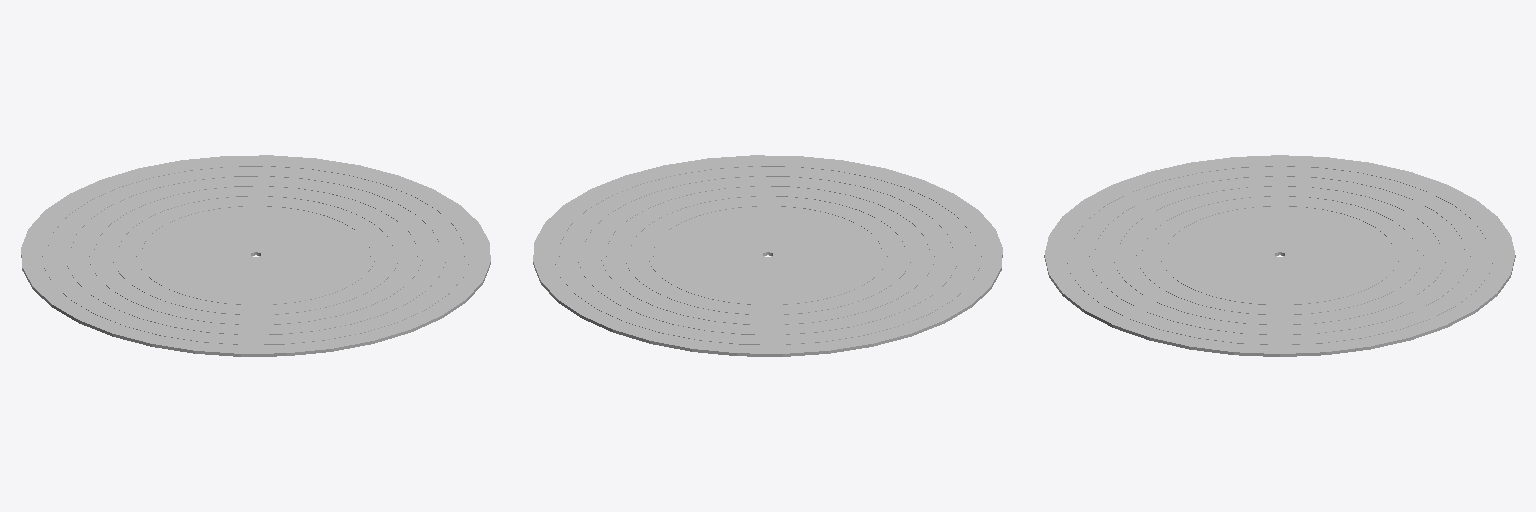
File: disc.obj
3 renders of one model, left to right at view 1: azimuth 30°, elevation 25°; view 2: azimuth 150°, elevation 25°; view 3: azimuth 270°, elevation 25°, orthographic.
Visible parts, largest first — view 1: Cylinder002; view 2: Cylinder002; view 3: Cylinder002.
Boxes of the visible parts, x1,y1,x2,y2 form: Cylinder002: [21, 155, 490, 356]; Cylinder002: [533, 155, 1002, 356]; Cylinder002: [1044, 155, 1515, 356].
Bounding box in the file's own units: 803457 × 6331 × 803457.